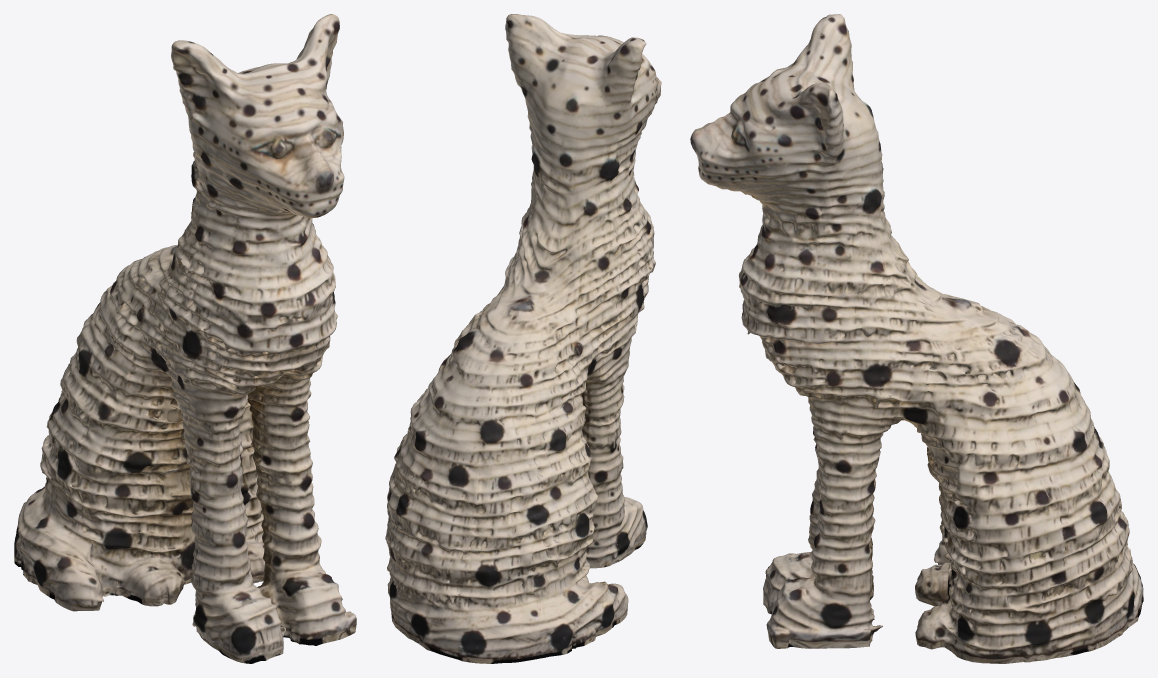
File: yusuf-untitled-cat.glb
3 views of the same model, side by side, from view 1: azimuth 30°, elevation 25°; view 2: azimuth 150°, elevation 25°; view 3: azimuth 270°, elevation 25° (orthographic). The views are drawn at different scales.
Parts seen in each view (by area): view 1: Mesh; view 2: Mesh; view 3: Mesh.
Part boxes in pixels (x1=…): Mesh: x1=14, y1=14, x2=356, y2=663; Mesh: x1=385, y1=14, x2=661, y2=663; Mesh: x1=690, y1=14, x2=1143, y2=663.
Size of the model in its own units: 0.2089 by 0.5 by 0.3614.
1 material, 1 textured.
